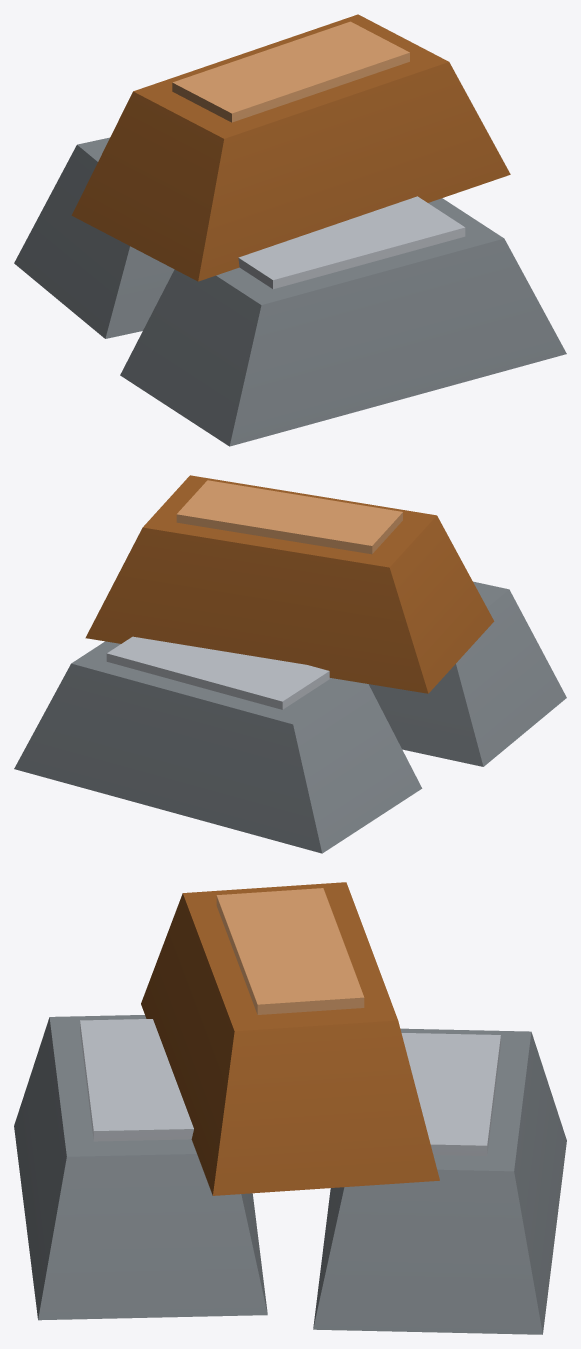
Rendered from res_ingot.glb.
The picture shows the model from 3 angles, top to bottom: view 1: azimuth 30°, elevation 25°; view 2: azimuth 150°, elevation 25°; view 3: azimuth 270°, elevation 25°; orthographic projection. The views are drawn at different scales.
Visible parts, largest first — view 1: res_ingot; view 2: res_ingot; view 3: res_ingot.
Part boxes in pixels (box(x1,y1,x2,y2)): res_ingot: box(14, 14, 566, 446); res_ingot: box(14, 475, 566, 853); res_ingot: box(14, 882, 566, 1334).
Bounding box in the file's own units: 0.8798 × 0.54 × 0.9613.
